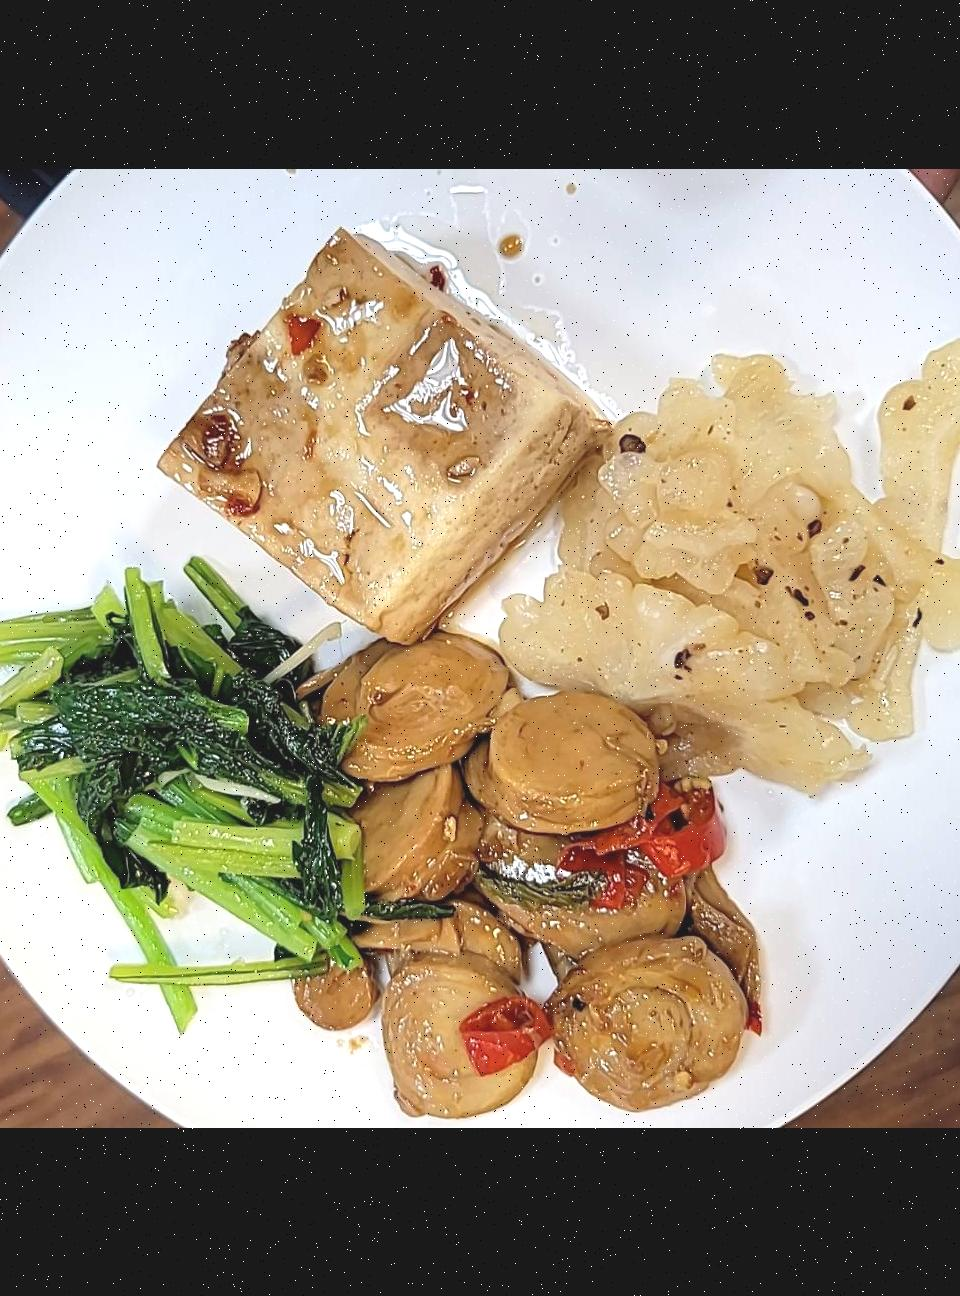big fried chicken leg: (0, 168, 960, 1127)
braised fish fillet: (296, 590, 767, 1124), (519, 307, 960, 803), (148, 217, 620, 665), (0, 544, 378, 1014)
